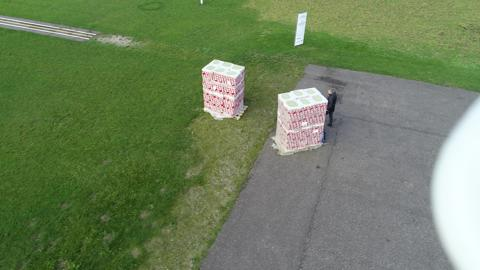RockwoolPallet: (275, 90, 325, 152)
